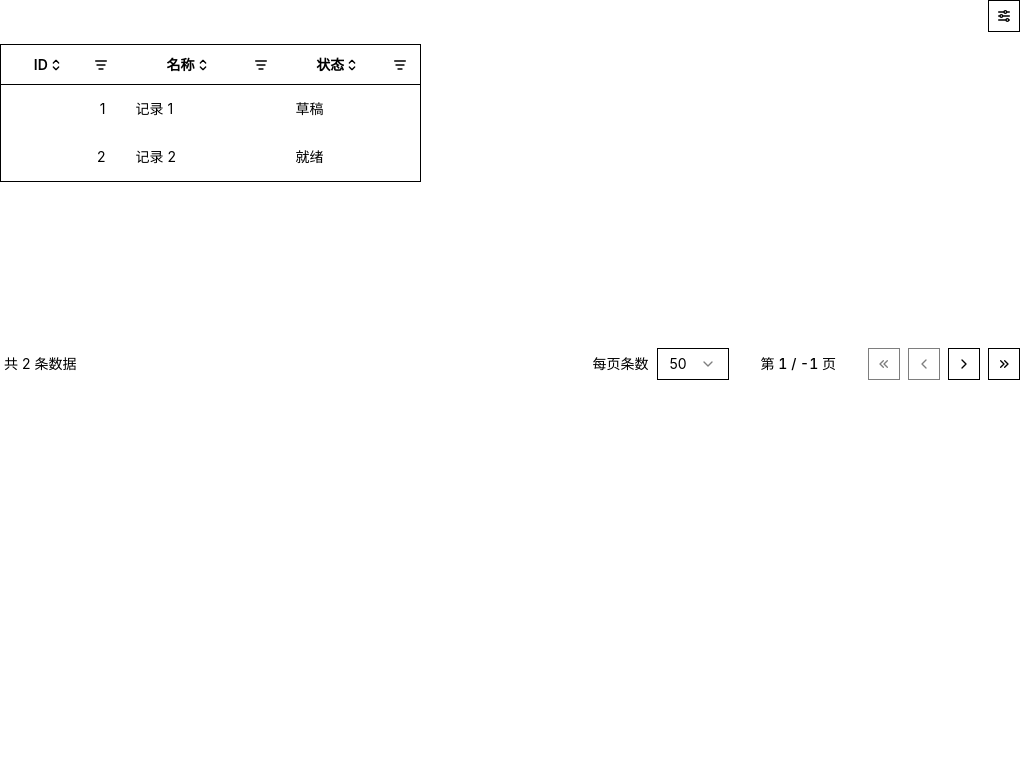
Scenario: DataTable cell selection › does not run table hotkeys for composing or already-consumed events
This screenshot has width=1024, height=768.
Click the cell "草稿" at x=310, y=108, box [280,85,420,133]
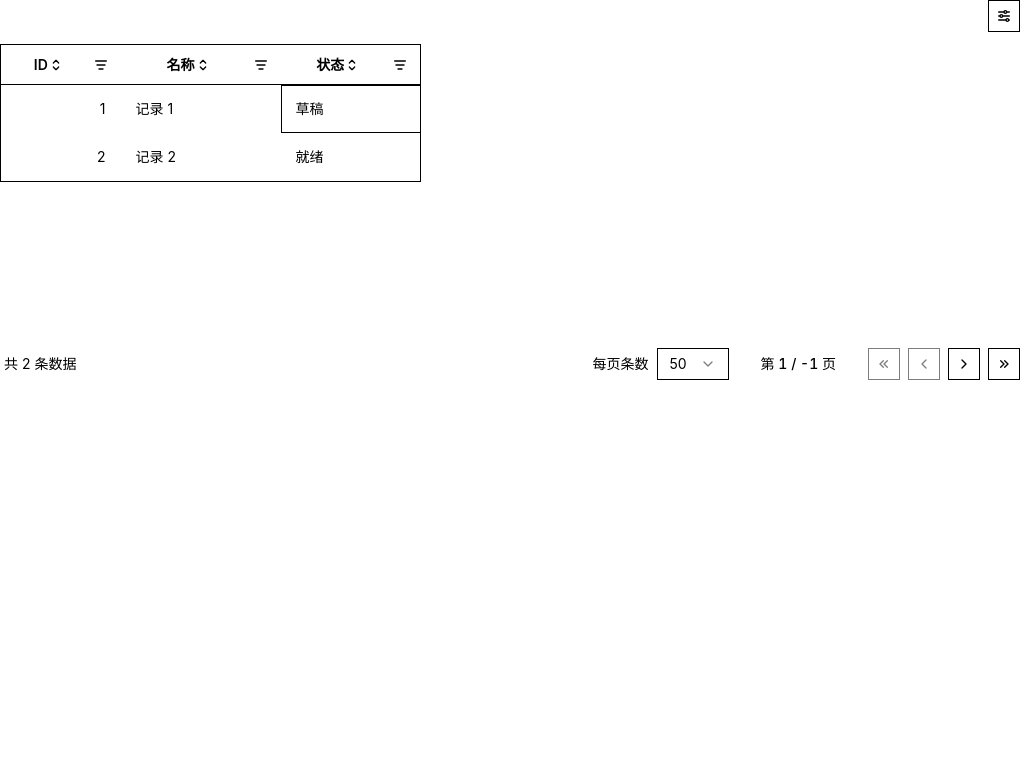
Press Enter in the cell "草稿", box [280,85,420,133]
Press Enter in the cell "草稿", box [280,85,420,133]
Press Enter in the cell "草稿", box [280,85,420,133]
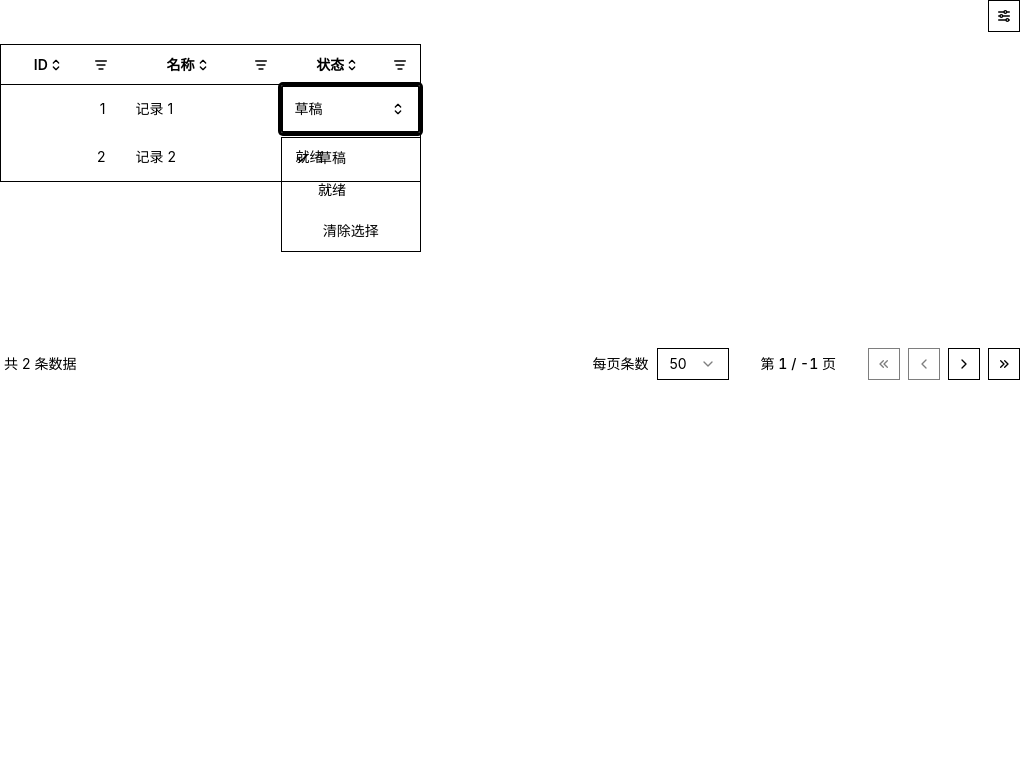
Expected: the option "就绪" is shown, [318,181,346,198]
